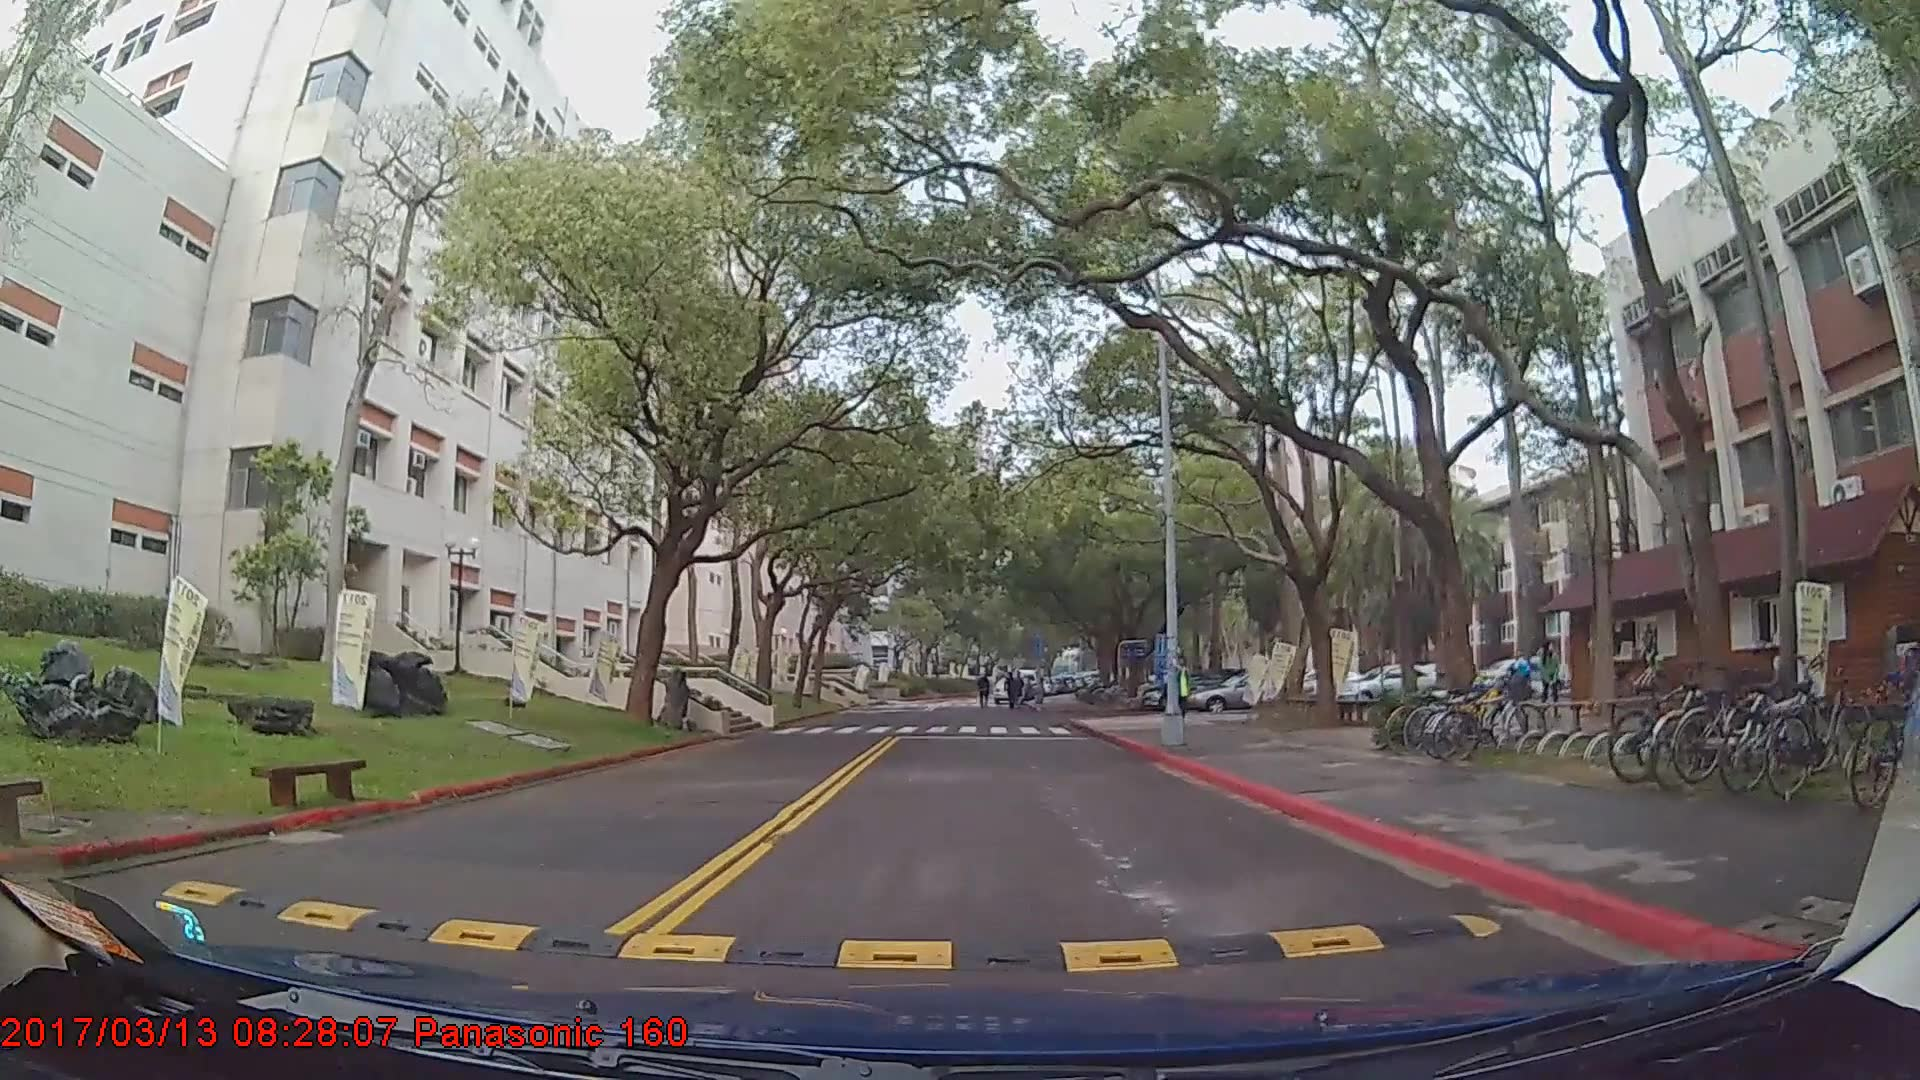vehicle: (1185, 670, 1317, 711), (1335, 659, 1443, 705)
